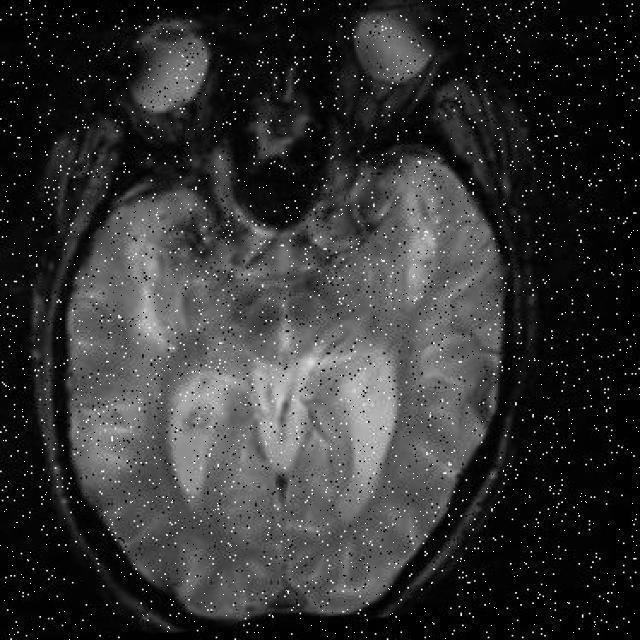CN: (298, 166, 431, 282), (162, 206, 240, 271)
